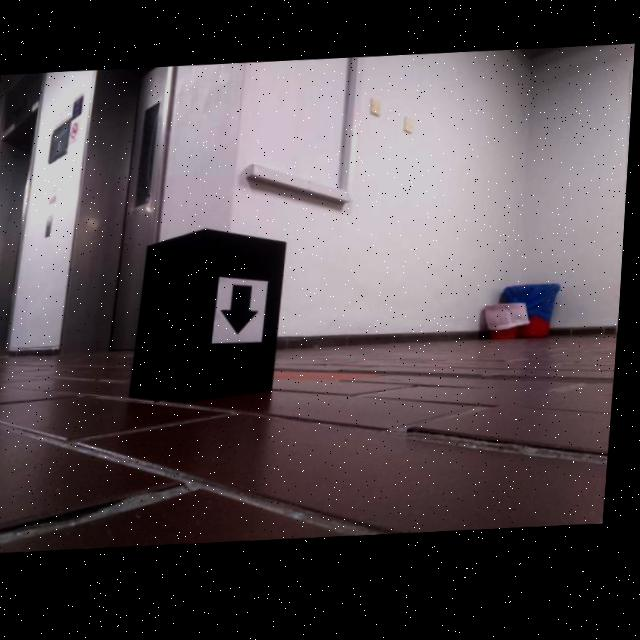DOWN: (224, 287, 264, 339)
